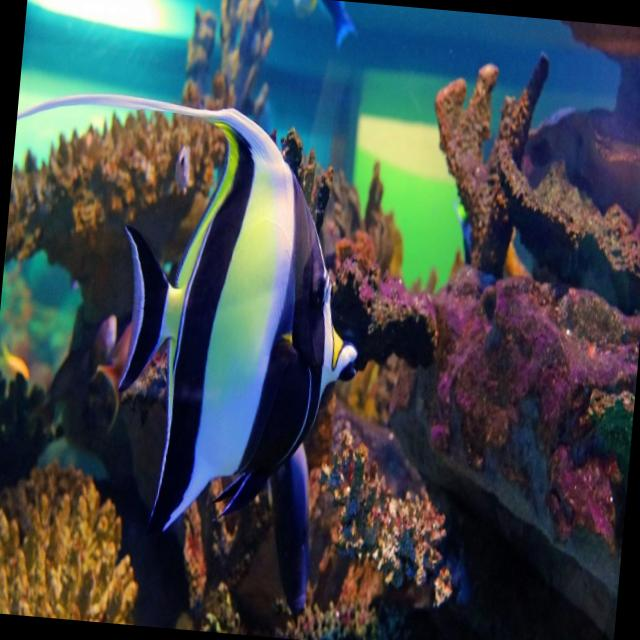MorishIdol: (0, 87, 378, 560)
